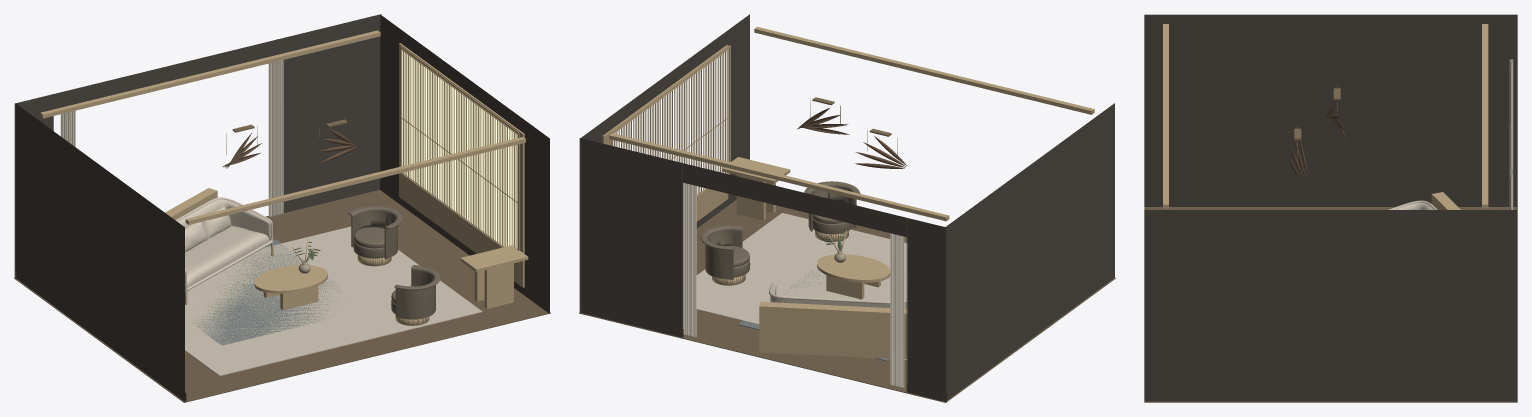
Rendered from great-2.glb.
The picture shows the model from 3 angles, left to right: view 1: azimuth 30°, elevation 25°; view 2: azimuth 150°, elevation 25°; view 3: azimuth 270°, elevation 25°; orthographic projection. The views are drawn at different scales.
Visible parts, largest first — view 1: DESIGN | great removable wall finish, DESIGN | Great room primary ground, DESIGN | great floor finish, DESIGN | Kumiko | Long luminous room backdrop, DESIGN | Long luminous room backdrop diffuse backing, DESIGN | Secondary occupied textile field, DESIGN | Great room sofa facing conversation, DESIGN | Retreat timber wall plane, DESIGN | Required Bellustar swivel chair one, DESIGN | Retreat concealed light edge.001, DESIGN | Retreat concealed light edge, DESIGN | Great room soft window edge.001 (+8 smaller); view 2: DESIGN | great removable wall finish, DESIGN | Great room primary ground, DESIGN | Kumiko | Long luminous room backdrop, DESIGN | great floor finish, DESIGN | Low plane behind retreat sofa, DESIGN | Long luminous room backdrop diffuse backing, DESIGN | Retreat concealed light edge, DESIGN | Retreat concealed light edge.001, DESIGN | Required Bellustar swivel chair one, DESIGN | Great room soft window edge, DESIGN | Great room soft window edge.001, DESIGN | Great room conversation table top (+8 smaller); view 3: DESIGN | great removable wall finish, DESIGN | great floor finish, DESIGN | Retreat concealed light edge.001, DESIGN | Retreat concealed light edge, DESIGN | Great room soft window edge, DESIGN | Low plane behind retreat sofa.
Boxes of the visible parts, box(x1,y1,x2,y2) form: DESIGN | great removable wall finish: box(14, 14, 549, 401); DESIGN | Great room primary ground: box(185, 226, 482, 376); DESIGN | great floor finish: box(14, 190, 550, 402); DESIGN | Kumiko | Long luminous room backdrop: box(399, 46, 519, 250); DESIGN | Long luminous room backdrop diffuse backing: box(402, 51, 517, 248); DESIGN | Secondary occupied textile field: box(192, 239, 340, 345); DESIGN | Great room sofa facing conversation: box(175, 197, 273, 304); DESIGN | Retreat timber wall plane: box(399, 43, 524, 287); DESIGN | Required Bellustar swivel chair one: box(348, 205, 402, 266); DESIGN | Retreat concealed light edge.001: box(40, 30, 380, 118); DESIGN | Retreat concealed light edge: box(185, 137, 525, 224); DESIGN | Great room soft window edge.001: box(268, 60, 283, 216); DESIGN | great removable wall finish: box(579, 14, 1114, 401); DESIGN | Great room primary ground: box(696, 213, 907, 360); DESIGN | Kumiko | Long luminous room backdrop: box(611, 45, 730, 198); DESIGN | great floor finish: box(579, 200, 1115, 402); DESIGN | Low plane behind retreat sofa: box(759, 301, 907, 359); DESIGN | Long luminous room backdrop diffuse backing: box(613, 50, 728, 194); DESIGN | Retreat concealed light edge: box(754, 26, 1094, 114); DESIGN | Retreat concealed light edge.001: box(609, 133, 949, 221); DESIGN | Required Bellustar swivel chair one: box(700, 225, 750, 285); DESIGN | Great room soft window edge: box(890, 233, 904, 387); DESIGN | Great room soft window edge.001: box(683, 182, 696, 337); DESIGN | Great room conversation table top: box(817, 254, 890, 282); DESIGN | great removable wall finish: box(1144, 14, 1517, 401); DESIGN | great floor finish: box(1144, 207, 1517, 402); DESIGN | Retreat concealed light edge.001: box(1482, 24, 1488, 208); DESIGN | Retreat concealed light edge: box(1163, 24, 1168, 208); DESIGN | Great room soft window edge: box(1509, 59, 1513, 170); DESIGN | Low plane behind retreat sofa: box(1431, 192, 1460, 209).
Bounding box in the file's own units: 6 × 2.74 × 4.82.
